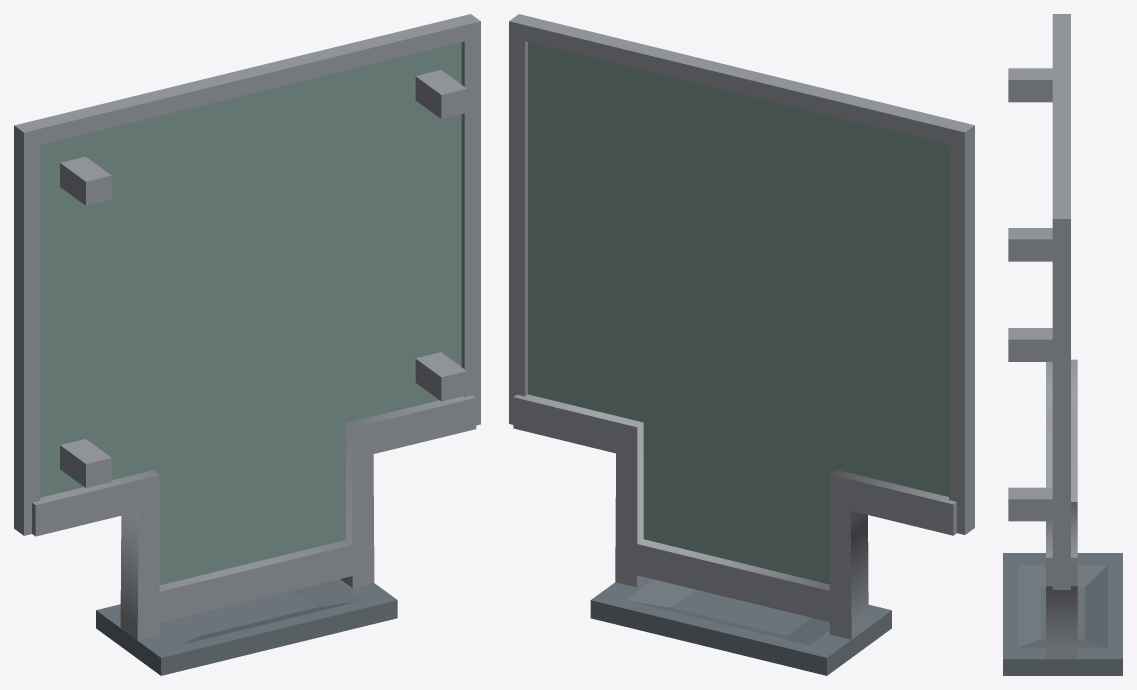
File: Prop_TellerDesk_Barrier_01.glb
The picture shows the model from 3 angles, left to right: view 1: azimuth 30°, elevation 25°; view 2: azimuth 150°, elevation 25°; view 3: azimuth 270°, elevation 25°; orthographic projection. The views are drawn at different scales.
Parts seen in each view (by area): view 1: SM_Prop_TellerDesk_Barrier_Glass_01, SM_Prop_TellerDesk_Barrier_01; view 2: SM_Prop_TellerDesk_Barrier_Glass_01, SM_Prop_TellerDesk_Barrier_01; view 3: SM_Prop_TellerDesk_Barrier_01.
Boxes of the visible parts, bbox=[...] form: SM_Prop_TellerDesk_Barrier_Glass_01: bbox=[40, 42, 461, 585]; SM_Prop_TellerDesk_Barrier_01: bbox=[14, 14, 480, 675]; SM_Prop_TellerDesk_Barrier_Glass_01: bbox=[528, 42, 948, 584]; SM_Prop_TellerDesk_Barrier_01: bbox=[509, 14, 974, 675]; SM_Prop_TellerDesk_Barrier_01: bbox=[1003, 14, 1122, 675].
Bounding box in the file's own units: 1.36 × 1.56 × 0.3356.
Materials: 2 (1 with a texture image).
